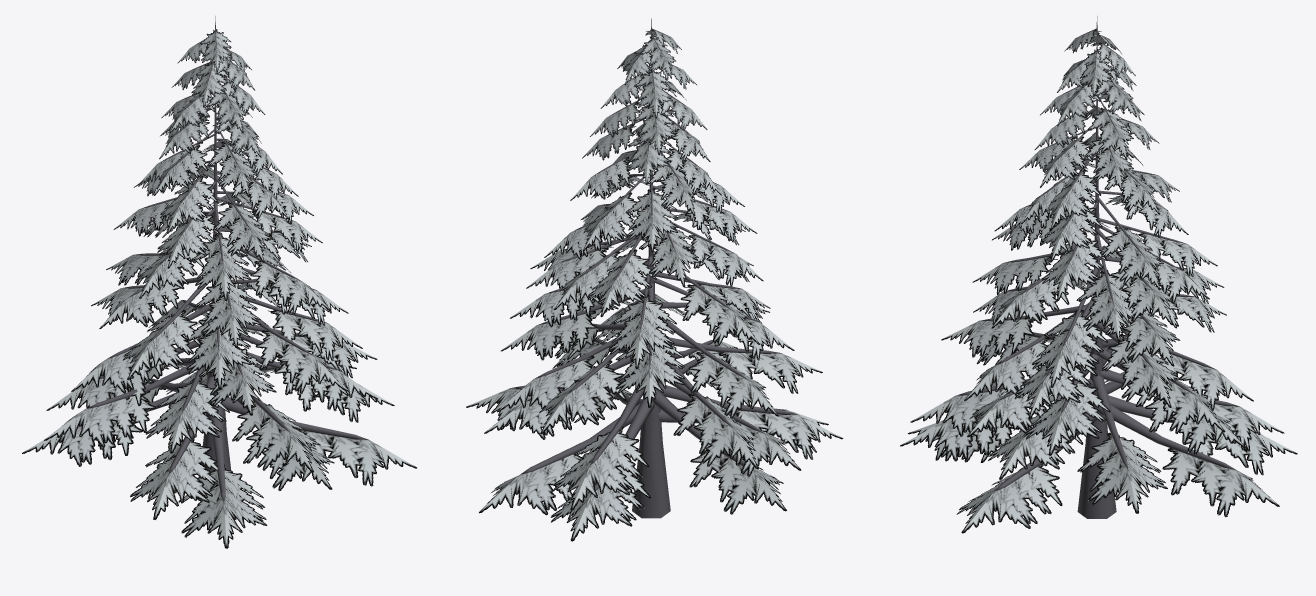
Rendered from arctic.glb.
3 views of the same model, side by side, from view 1: azimuth 30°, elevation 25°; view 2: azimuth 150°, elevation 25°; view 3: azimuth 270°, elevation 25° (orthographic). The views are drawn at different scales.
Parts seen in each view (by area): view 1: leaf, bark; view 2: leaf, bark; view 3: leaf, bark.
Boxes of the visible parts, x1,y1,x2,y2 form: leaf: (22, 29, 416, 548); bark: (86, 16, 368, 502); leaf: (466, 29, 843, 541); bark: (510, 18, 797, 518); leaf: (900, 29, 1297, 533); bark: (950, 16, 1239, 518).
Size of the model in its own units: 2.7 by 3.66 by 2.77.
Materials: 2 (1 with a texture image).
